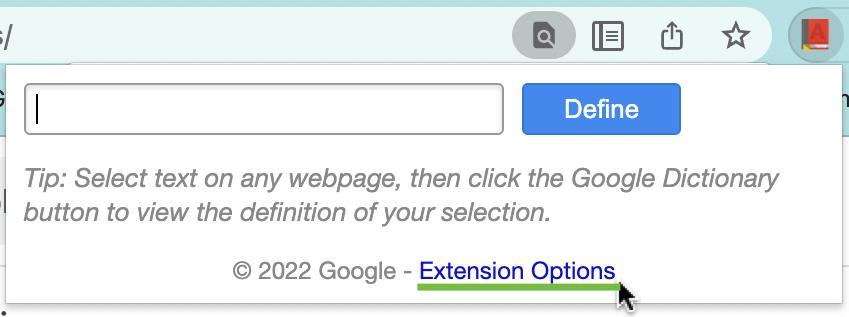button: (524, 84, 684, 135)
icon: (655, 15, 696, 57), (584, 20, 630, 56), (799, 18, 834, 53), (719, 19, 753, 51), (530, 19, 561, 52)
input: (27, 84, 504, 135)
